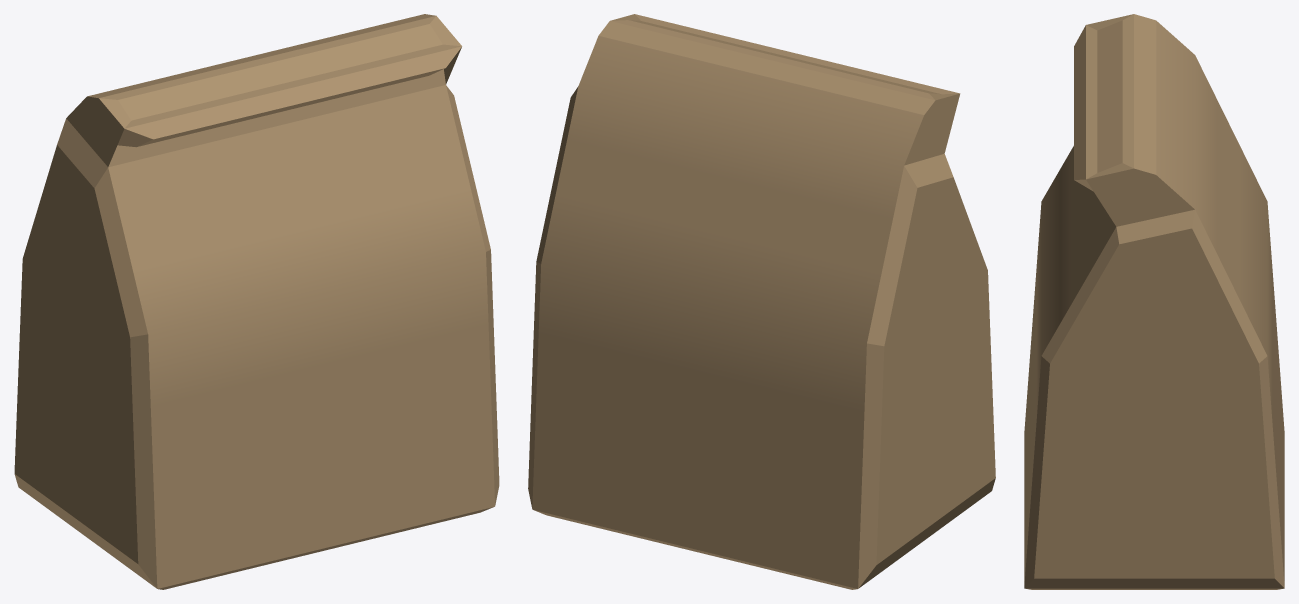
File: packed_lunch.fbx
The picture shows the model from 3 angles, left to right: view 1: azimuth 30°, elevation 25°; view 2: azimuth 150°, elevation 25°; view 3: azimuth 270°, elevation 25°; orthographic projection. The views are drawn at different scales.
Parts seen in each view (by area): view 1: packed_lunch; view 2: packed_lunch; view 3: packed_lunch.
Part boxes in pixels (left/top/right/bottom): packed_lunch: left=14, top=14, right=499, bottom=589; packed_lunch: left=528, top=14, right=995, bottom=589; packed_lunch: left=1024, top=14, right=1284, bottom=589.
Bounding box in the file's own units: 10.29 × 12.46 × 6.9.
